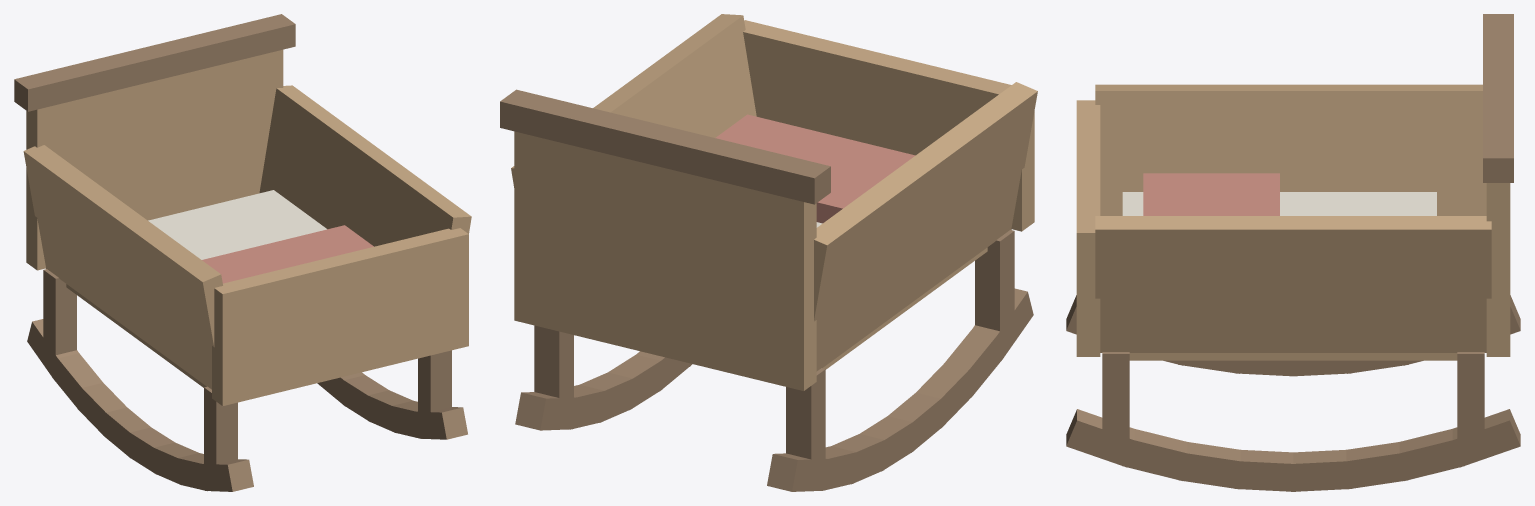
File: furniture_cradle.glb
The picture shows the model from 3 angles, left to right: view 1: azimuth 30°, elevation 25°; view 2: azimuth 150°, elevation 25°; view 3: azimuth 270°, elevation 25°; orthographic projection. The views are drawn at different scales.
Visible parts, largest first — view 1: wood, wood_dark, cloth, cloth_red; view 2: wood, wood_dark, cloth_red; view 3: wood, wood_dark, cloth_red, cloth.
Part boxes in pixels (<box>): wood: <box>23,49,471,405</box>; wood_dark: <box>14,14,467,491</box>; cloth: <box>148,190,326,259</box>; cloth_red: <box>202,225,373,283</box>; wood: <box>511,14,1037,390</box>; wood_dark: <box>500,89,1033,491</box>; cloth_red: <box>715,114,915,223</box>; wood: <box>1076,84,1510,360</box>; wood_dark: <box>1066,14,1520,491</box>; cloth_red: <box>1143,173,1279,215</box>; cloth: <box>1122,192,1436,215</box>.
Bounding box in the file's own units: 0.5027 × 0.5527 × 0.6654.
